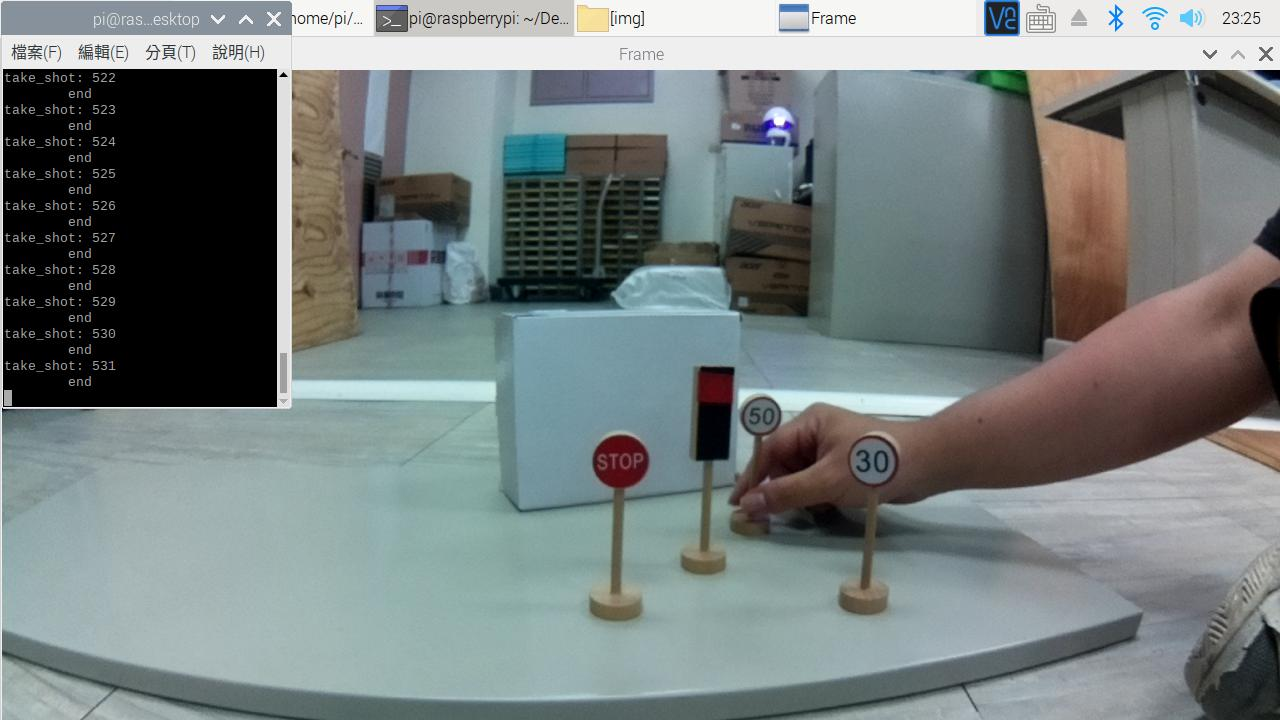Red: (686, 356, 734, 465)
Speed30: (843, 431, 916, 500)
Speed50: (742, 390, 786, 438)
Stop: (582, 425, 659, 513)
